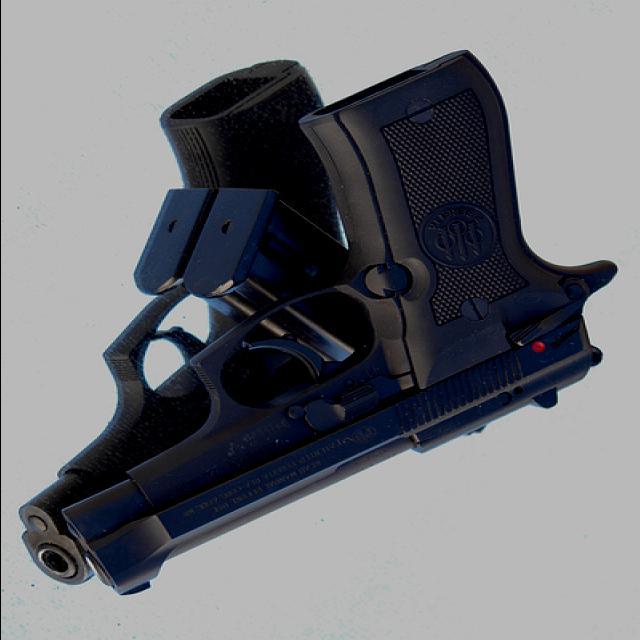handgun: (22, 45, 626, 591)
